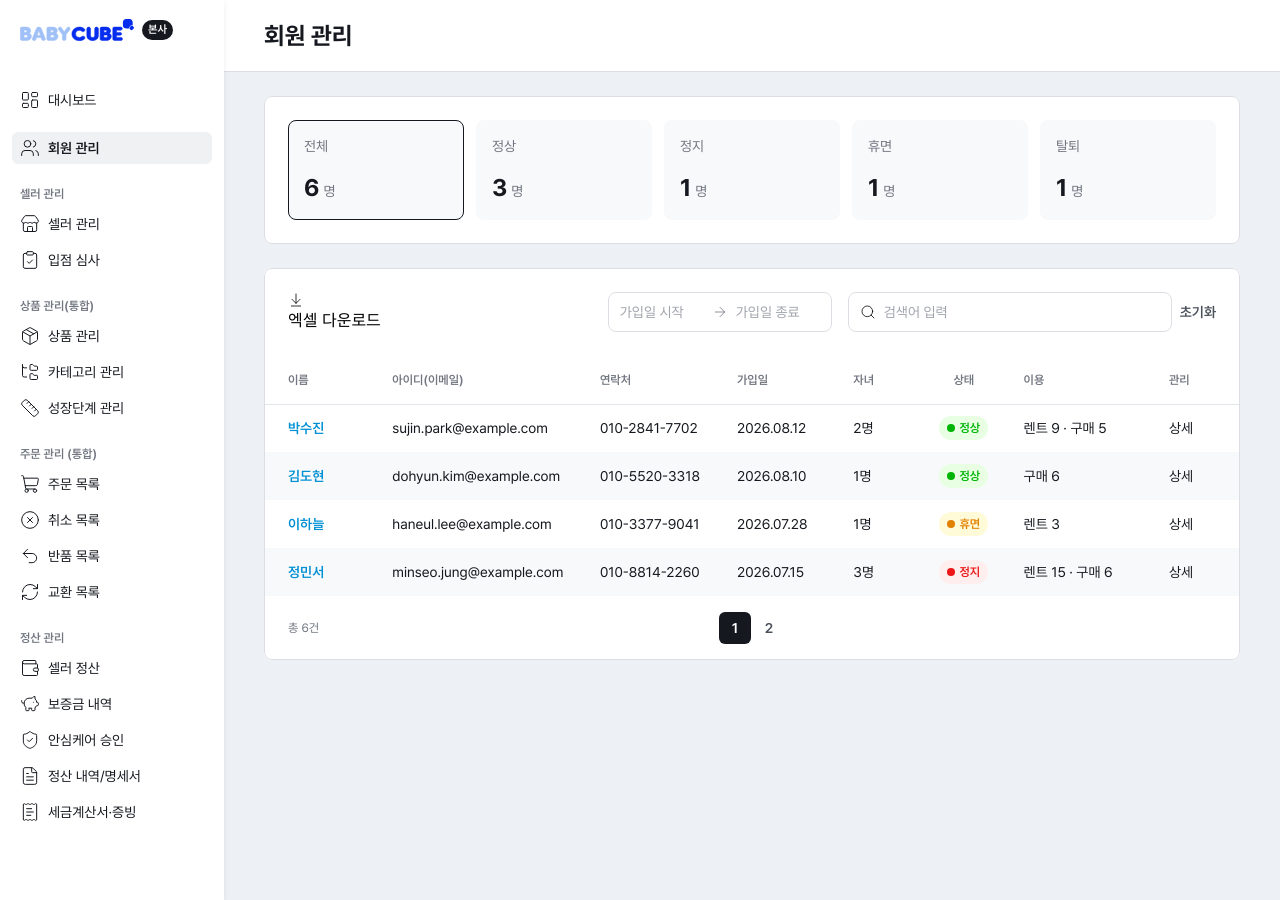
MemberListPage (S02 회원 관리) › 상태 대시 — 원본 StatDash › 상태 상자에 hover 하면 원본의 상태 안내 문구가 뜬다
Hover over the button with aria-label "정지 1명": (752, 170) 664,120 -> 840,220
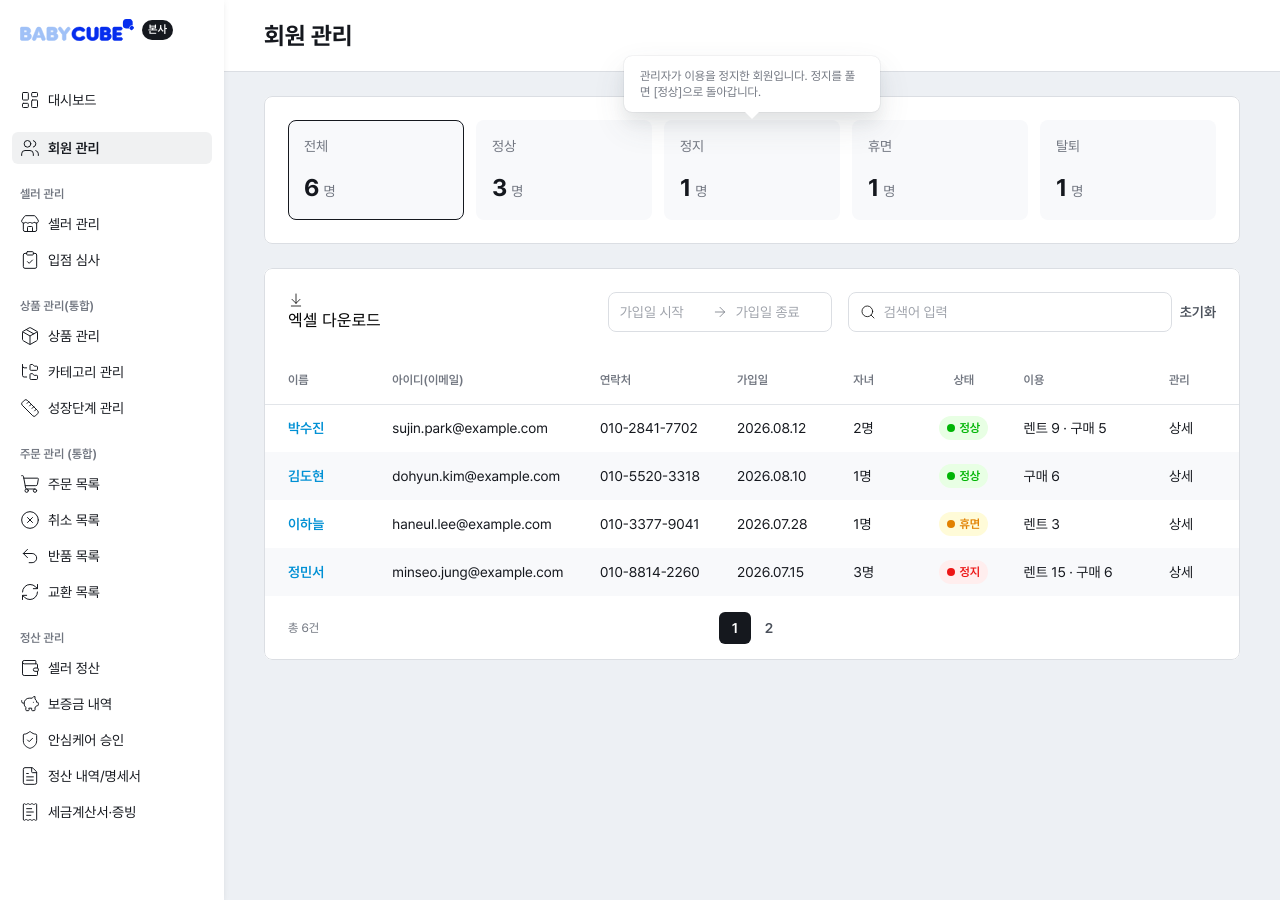
Expected: the text "관리자가 이용을 정지한 회원입니다. 정지를 풀면 [정상]으로 돌아갑니다." is shown, 640,68 -> 864,100
